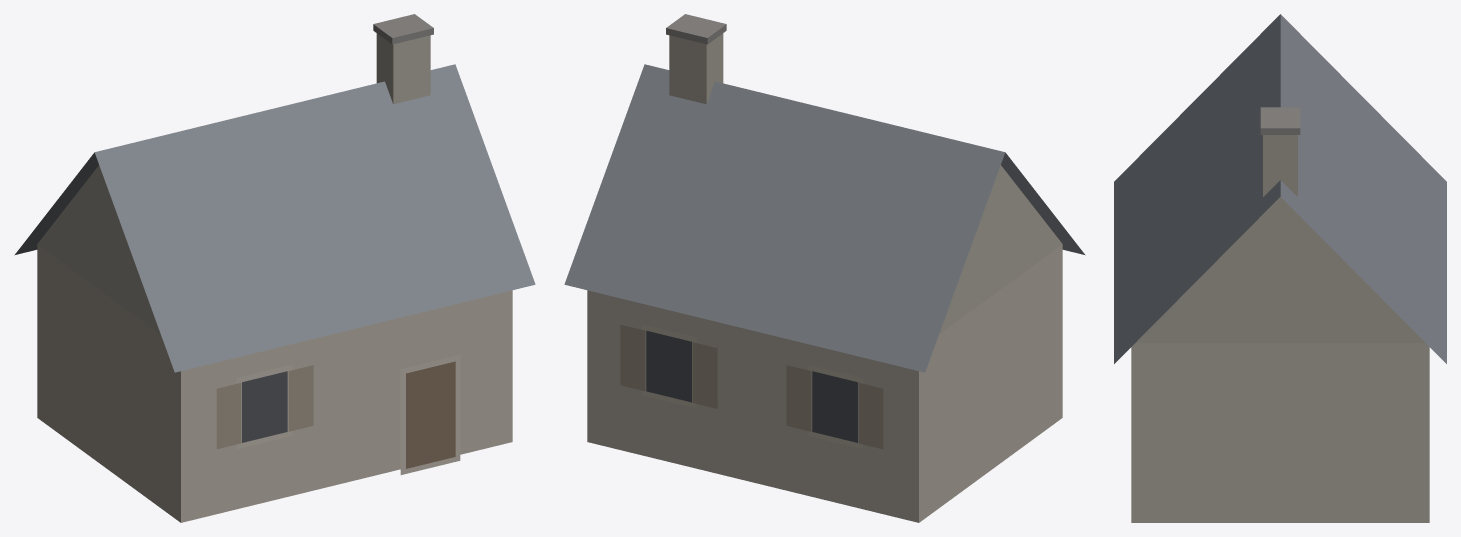
Rendered from stenhus_b_L0.glb.
The picture shows the model from 3 angles, left to right: view 1: azimuth 30°, elevation 25°; view 2: azimuth 150°, elevation 25°; view 3: azimuth 270°, elevation 25°; orthographic projection. The views are drawn at different scales.
Parts seen in each view (by area): view 1: geometry_0; view 2: geometry_0; view 3: geometry_0.
Part boxes in pixels (<box>): geometry_0: <box>14,14,535,522</box>; geometry_0: <box>564,14,1085,522</box>; geometry_0: <box>1114,14,1446,522</box>.
Bounding box in the file's own units: 8.7 × 8.7 × 6.7.
